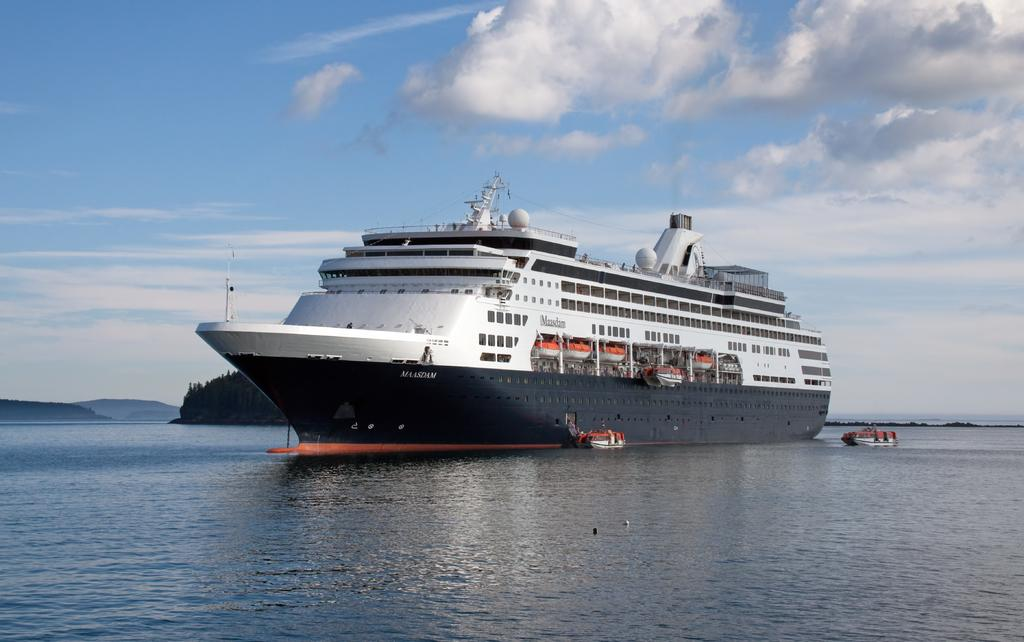PassengerShip: (179, 164, 833, 456)
